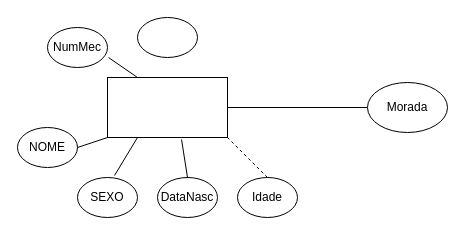
The diagram is 465 pixels wide and 235 high, and some of its shapes have lost their labels. The box of each missing label's shape, as (x1, y1, x2, y2) in pixels:
ALUNO: (106, 76, 228, 138)
Num: (136, 16, 198, 58)
